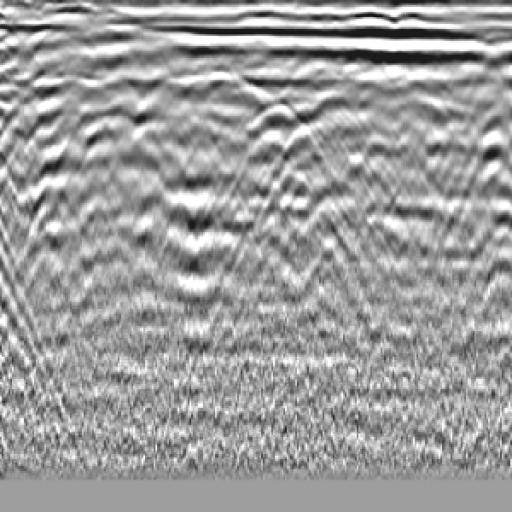metalic: (103, 56, 238, 147)
